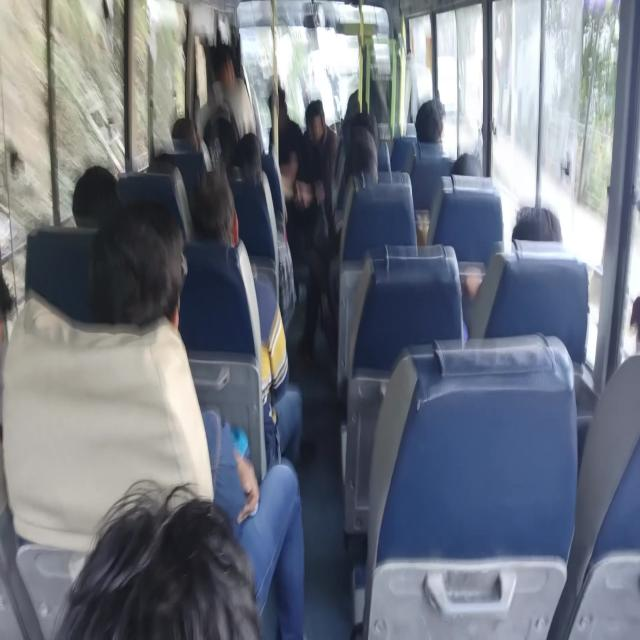person: (1, 74, 482, 637), (87, 198, 306, 638), (186, 170, 303, 466), (51, 478, 261, 638), (233, 132, 297, 330), (302, 98, 340, 231), (268, 81, 308, 205), (210, 43, 256, 139), (71, 164, 119, 228), (344, 124, 378, 188), (414, 98, 446, 157)
